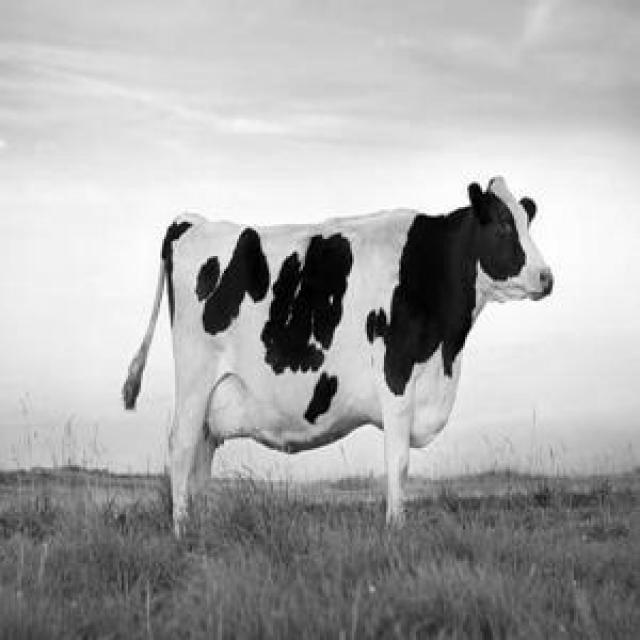cow: (151, 178, 551, 529)
